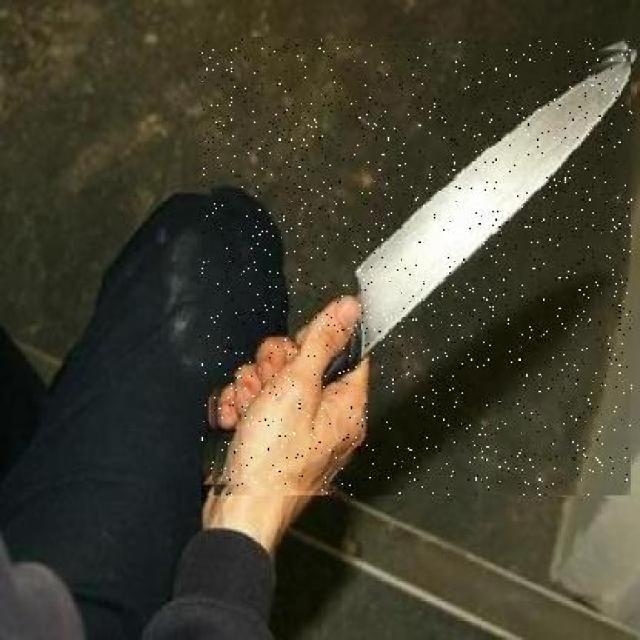knife: (202, 38, 633, 496)
